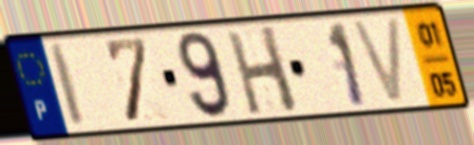1: (323, 19, 372, 108)
7: (103, 35, 153, 126)
9: (174, 29, 235, 121)
H: (223, 22, 303, 117)
I: (46, 41, 90, 130)
V: (347, 14, 407, 108)
